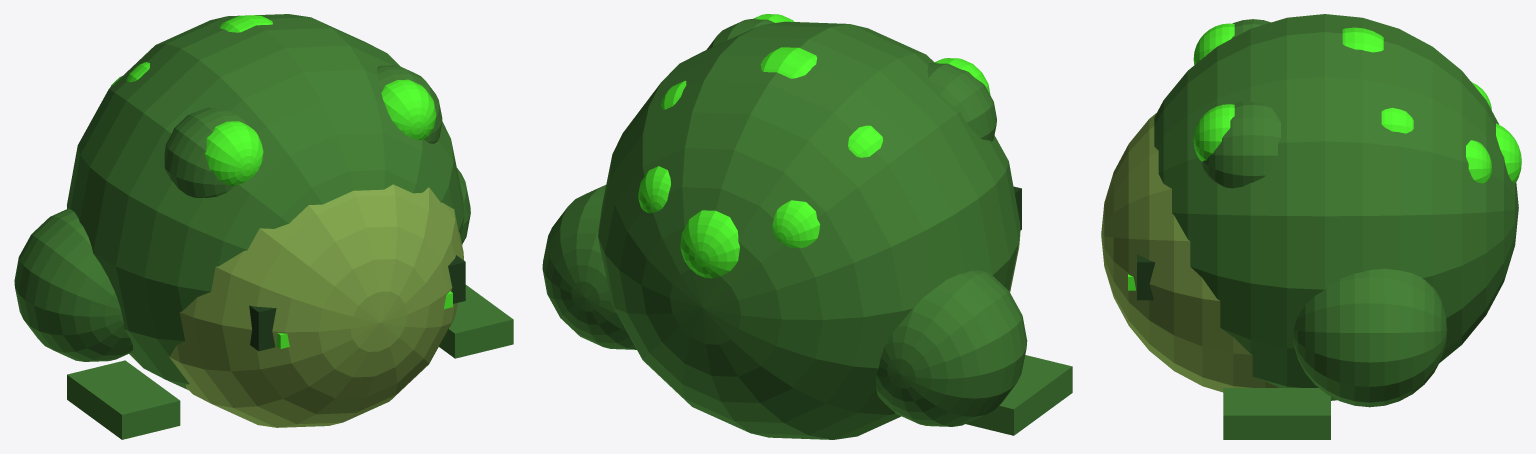
The model's file is toxic_gromp.obj.
3 renders of one model, left to right at view 1: azimuth 30°, elevation 25°; view 2: azimuth 150°, elevation 25°; view 3: azimuth 270°, elevation 25°, orthographic. The views are drawn at different scales.
Parts seen in each view (by area): view 1: Body, Belly, Leg_Thigh_L, Foot_L, Eye_Mount_L, Foot_R, Eye_L, Eye_R, Jaw_Maw, Eye_Mount_R, Pustule_2; view 2: Body, Leg_Thigh_L, Leg_Thigh_R, Foot_L, Pustule_5, Eye_Mount_L, Pustule_3, Pustule_2, Pustule_4, Pustule_0, Eye_Mount_R; view 3: Body, Belly, Leg_Thigh_R, Foot_R, Eye_Mount_R, Eye_R, Pustule_5, Pustule_4, Pustule_2, Eye_L, Jaw_Maw, Pustule_1.
Boxes of the visible parts, x1,y1,x2,y2 form: Body: (67,14,464,389); Belly: (169,184,464,427); Leg_Thigh_L: (14,208,132,361); Foot_L: (67,360,180,439); Eye_Mount_L: (164,107,246,197); Foot_R: (439,285,513,358); Eye_L: (205,121,263,186); Eye_R: (381,79,436,139); Jaw_Maw: (249,255,465,351); Eye_Mount_R: (377,65,442,143); Pustule_2: (220,15,272,32); Body: (598,21,1020,439); Leg_Thigh_L: (876,270,1027,426); Leg_Thigh_R: (542,185,636,349); Foot_L: (966,355,1072,435); Pustule_5: (680,210,739,278); Eye_Mount_L: (927,63,996,141); Pustule_3: (772,200,820,248); Pustule_2: (760,47,816,78); Pustule_4: (638,166,670,213); Pustule_0: (848,125,882,157); Eye_Mount_R: (706,19,774,49); Body: (1154,14,1518,400); Belly: (1101,113,1279,392); Leg_Thigh_R: (1293,268,1447,407); Foot_R: (1223,388,1330,439); Eye_Mount_R: (1201,101,1280,188); Eye_R: (1193,104,1234,161); Pustule_5: (1496,123,1521,182); Pustule_4: (1466,140,1491,183); Pustule_2: (1342,27,1383,52); Eye_L: (1193,23,1234,64); Jaw_Maw: (1137,254,1155,300); Pustule_1: (1381,108,1413,133).
Size of the model in its own units: 1.64 by 1.3 by 1.41.
